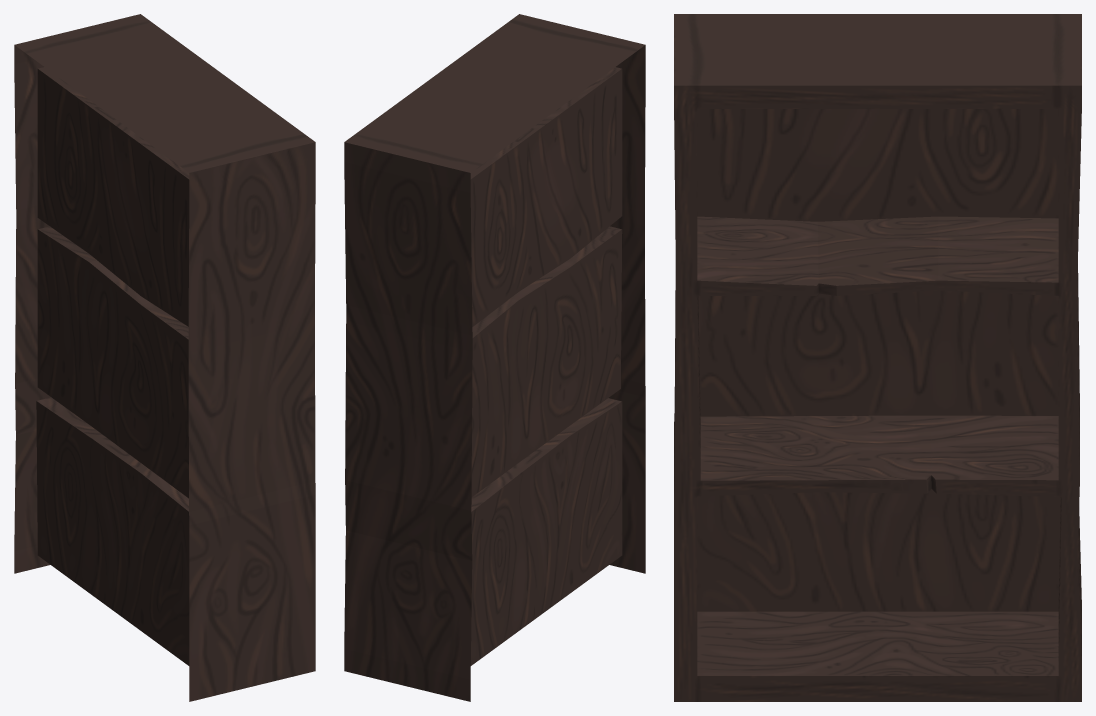
The model's file is cupboard.obj.
The picture shows the model from 3 angles, left to right: view 1: azimuth 30°, elevation 25°; view 2: azimuth 150°, elevation 25°; view 3: azimuth 270°, elevation 25°; orthographic projection. The views are drawn at different scales.
Visible parts, largest first — view 1: cupboard_Cube.043; view 2: cupboard_Cube.043; view 3: cupboard_Cube.043.
Part boxes in pixels (<box>): cupboard_Cube.043: <box>14,14,315,701</box>; cupboard_Cube.043: <box>344,14,645,701</box>; cupboard_Cube.043: <box>674,14,1081,701</box>.
Bounding box in the file's own units: 0.5 × 2 × 1.2.
1 material, 1 textured.
